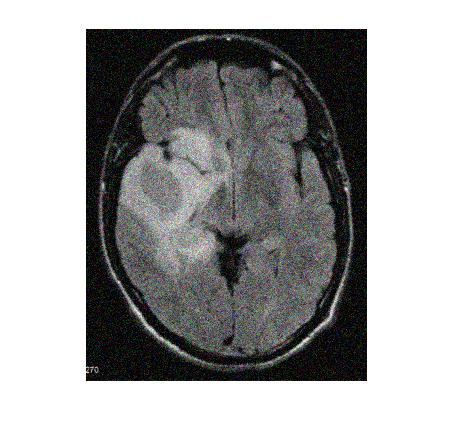Brain_Cancer: (124, 148, 200, 228)
